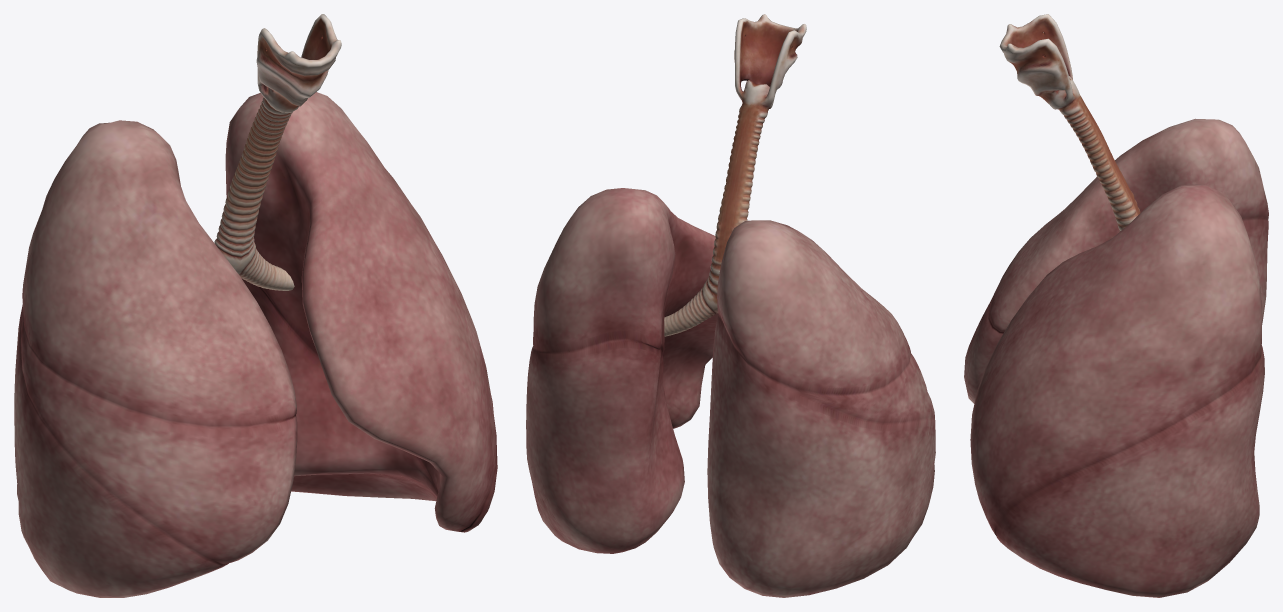
Rendered from resporatoryTract.fbx.
3 renders of one model, left to right at view 1: azimuth 30°, elevation 25°; view 2: azimuth 150°, elevation 25°; view 3: azimuth 270°, elevation 25°, orthographic. The views are drawn at different scales.
Parts seen in each view (by area): view 1: l_lung, r_lung, tube; view 2: l_lung, r_lung, tube; view 3: r_lung, l_lung, tube.
Part boxes in pixels (x1,y1,x2,y2): l_lung: (14, 120, 297, 597); r_lung: (225, 92, 497, 532); tube: (214, 14, 341, 290); l_lung: (707, 220, 935, 597); r_lung: (526, 188, 718, 553); tube: (664, 14, 806, 336); r_lung: (970, 184, 1264, 597); l_lung: (964, 118, 1268, 403); tube: (999, 14, 1140, 231).
Bounding box in the file's own units: 27.61 × 35.99 × 20.07.
